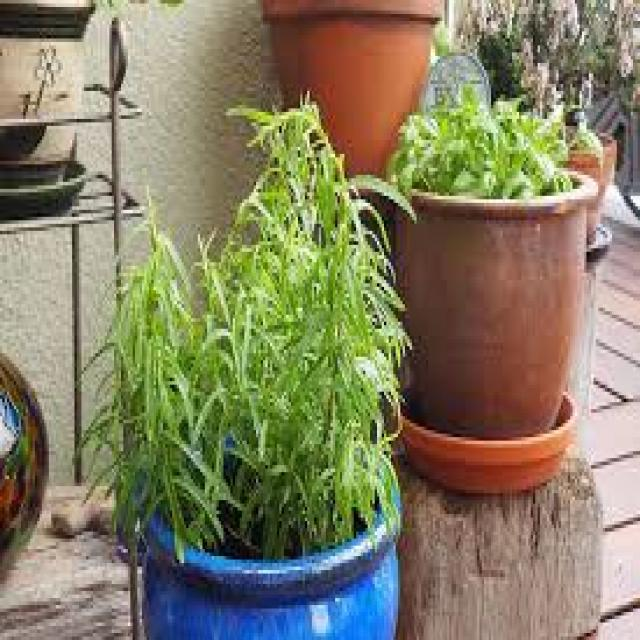plant: (82, 92, 399, 623)
